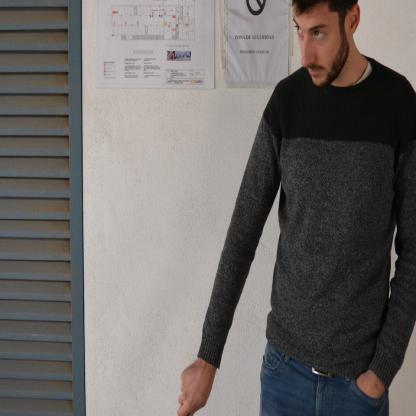knife: (167, 385, 198, 415)
